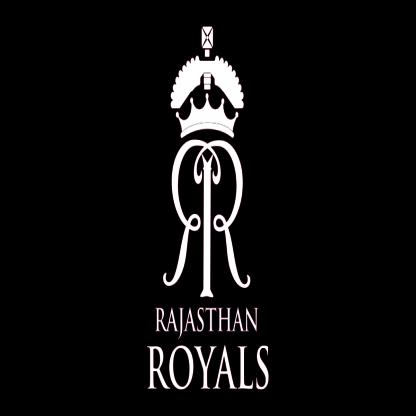Rajasthan Royals: (149, 12, 269, 395)
